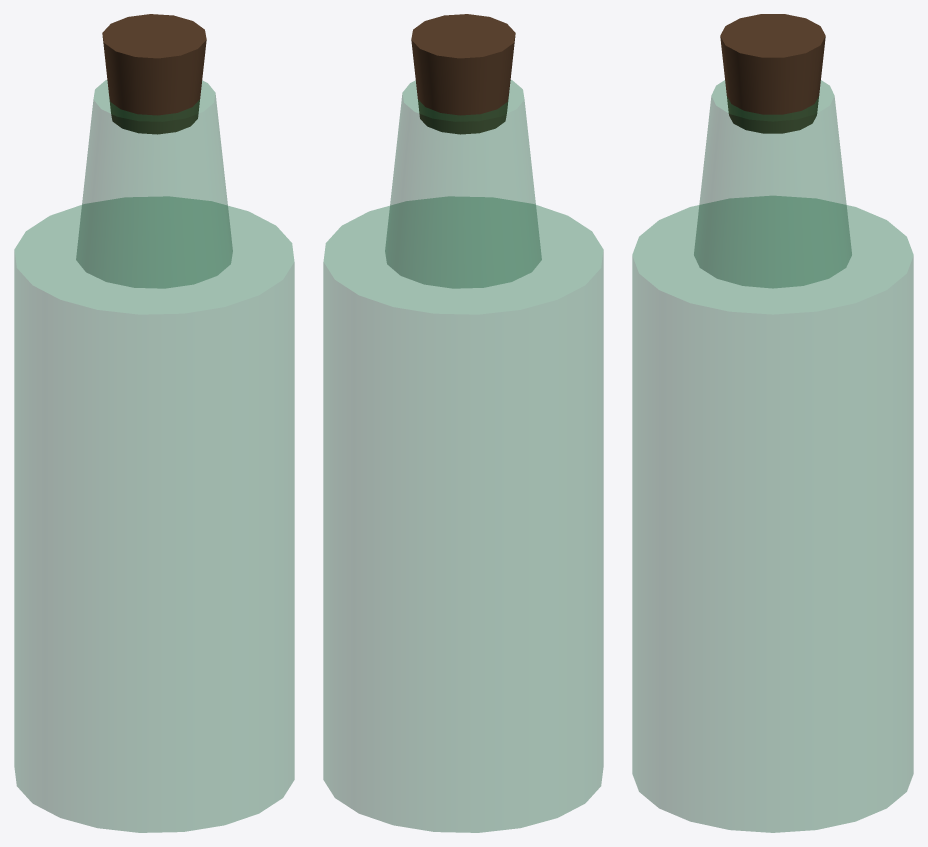
Rendered from pickup_tonic.glb.
3 renders of one model, left to right at view 1: azimuth 30°, elevation 25°; view 2: azimuth 150°, elevation 25°; view 3: azimuth 270°, elevation 25°, orthographic.
Parts seen in each view (by area): view 1: Handle_Grip_Bottle, Bottle_Neck, Wax_Sealed_Cork; view 2: Handle_Grip_Bottle, Bottle_Neck, Wax_Sealed_Cork; view 3: Handle_Grip_Bottle, Bottle_Neck, Wax_Sealed_Cork.
Boxes of the visible parts, box(x1,y1,x2,y2) form: Handle_Grip_Bottle: box(14, 196, 294, 832); Bottle_Neck: box(76, 80, 232, 288); Wax_Sealed_Cork: box(102, 14, 206, 134); Handle_Grip_Bottle: box(323, 196, 603, 832); Bottle_Neck: box(385, 80, 541, 288); Wax_Sealed_Cork: box(411, 14, 515, 134); Handle_Grip_Bottle: box(632, 196, 913, 832); Bottle_Neck: box(694, 80, 851, 288); Wax_Sealed_Cork: box(720, 14, 825, 133).
Size of the model in its own units: 0.064 by 0.185 by 0.064.
